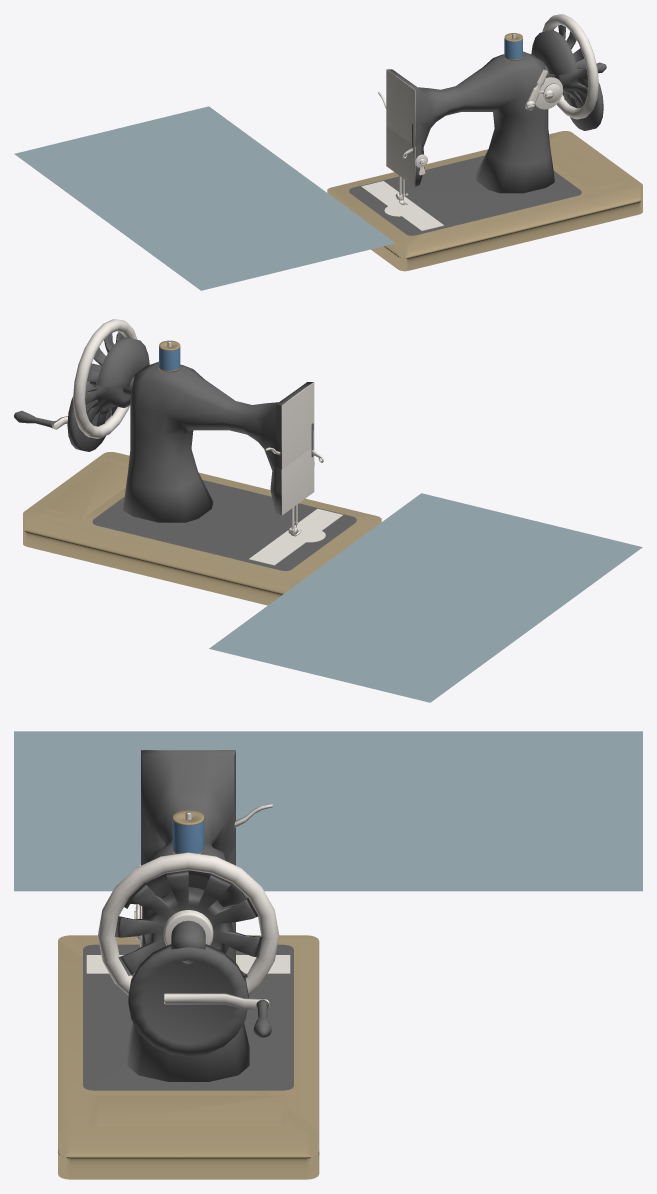
The picture shows the model from 3 angles, top to bottom: view 1: azimuth 30°, elevation 25°; view 2: azimuth 150°, elevation 25°; view 3: azimuth 270°, elevation 25°; orthographic projection. The views are drawn at different scales.
Visible parts, largest first — view 1: Cloth, machinebody, Base, metalbase, cubby, wheel, wheeltopcover, pCube1, wheelspokes, handleplate, spool; view 2: Cloth, machinebody, Base, metalbase, cubby, wheel, wheeltopcover, wheelspokes, pCube1, handleplate, spool; view 3: Cloth, Base, machinebody, metalbase, handleplate, wheel, wheelspokes, cubby, spool, wheeltopcover, handleholder, pCube1 (+2 smaller).
Boxes of the visible parts, x1,y1,x2,y2 form: Cloth: (14, 106, 395, 290); machinebody: (386, 51, 554, 193); Base: (327, 131, 642, 271); metalbase: (349, 155, 581, 235); cubby: (550, 138, 623, 190); wheel: (542, 14, 598, 119); wheeltopcover: (531, 30, 577, 75); pCube1: (361, 181, 443, 230); wheelspokes: (553, 25, 587, 108); handleplate: (562, 68, 603, 130); spool: (504, 33, 522, 61); Cloth: (209, 493, 642, 702); machinebody: (123, 361, 314, 522); Base: (23, 452, 381, 605); metalbase: (92, 480, 356, 570); cubby: (44, 459, 128, 519); wheel: (73, 319, 137, 438); wheeltopcover: (97, 337, 149, 388); wheelspokes: (85, 332, 130, 426); pCube1: (248, 508, 342, 565); handleplate: (67, 381, 111, 451); spool: (159, 340, 180, 372); Cloth: (14, 731, 642, 891); Base: (58, 935, 319, 1179); machinebody: (127, 750, 249, 1081); metalbase: (83, 944, 293, 1090); handleplate: (128, 944, 248, 1056); wheel: (98, 852, 279, 995); wheelspokes: (114, 870, 262, 978); cubby: (89, 1095, 287, 1125); spool: (172, 810, 204, 854); wheeltopcover: (124, 870, 247, 908); handleholder: (164, 993, 269, 1009); pCube1: (86, 955, 290, 973).
Size of the model in its own units: 25.64 by 8.99 by 17.33.
